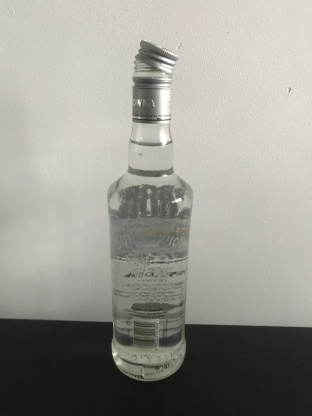nakretka: (130, 37, 179, 124)
